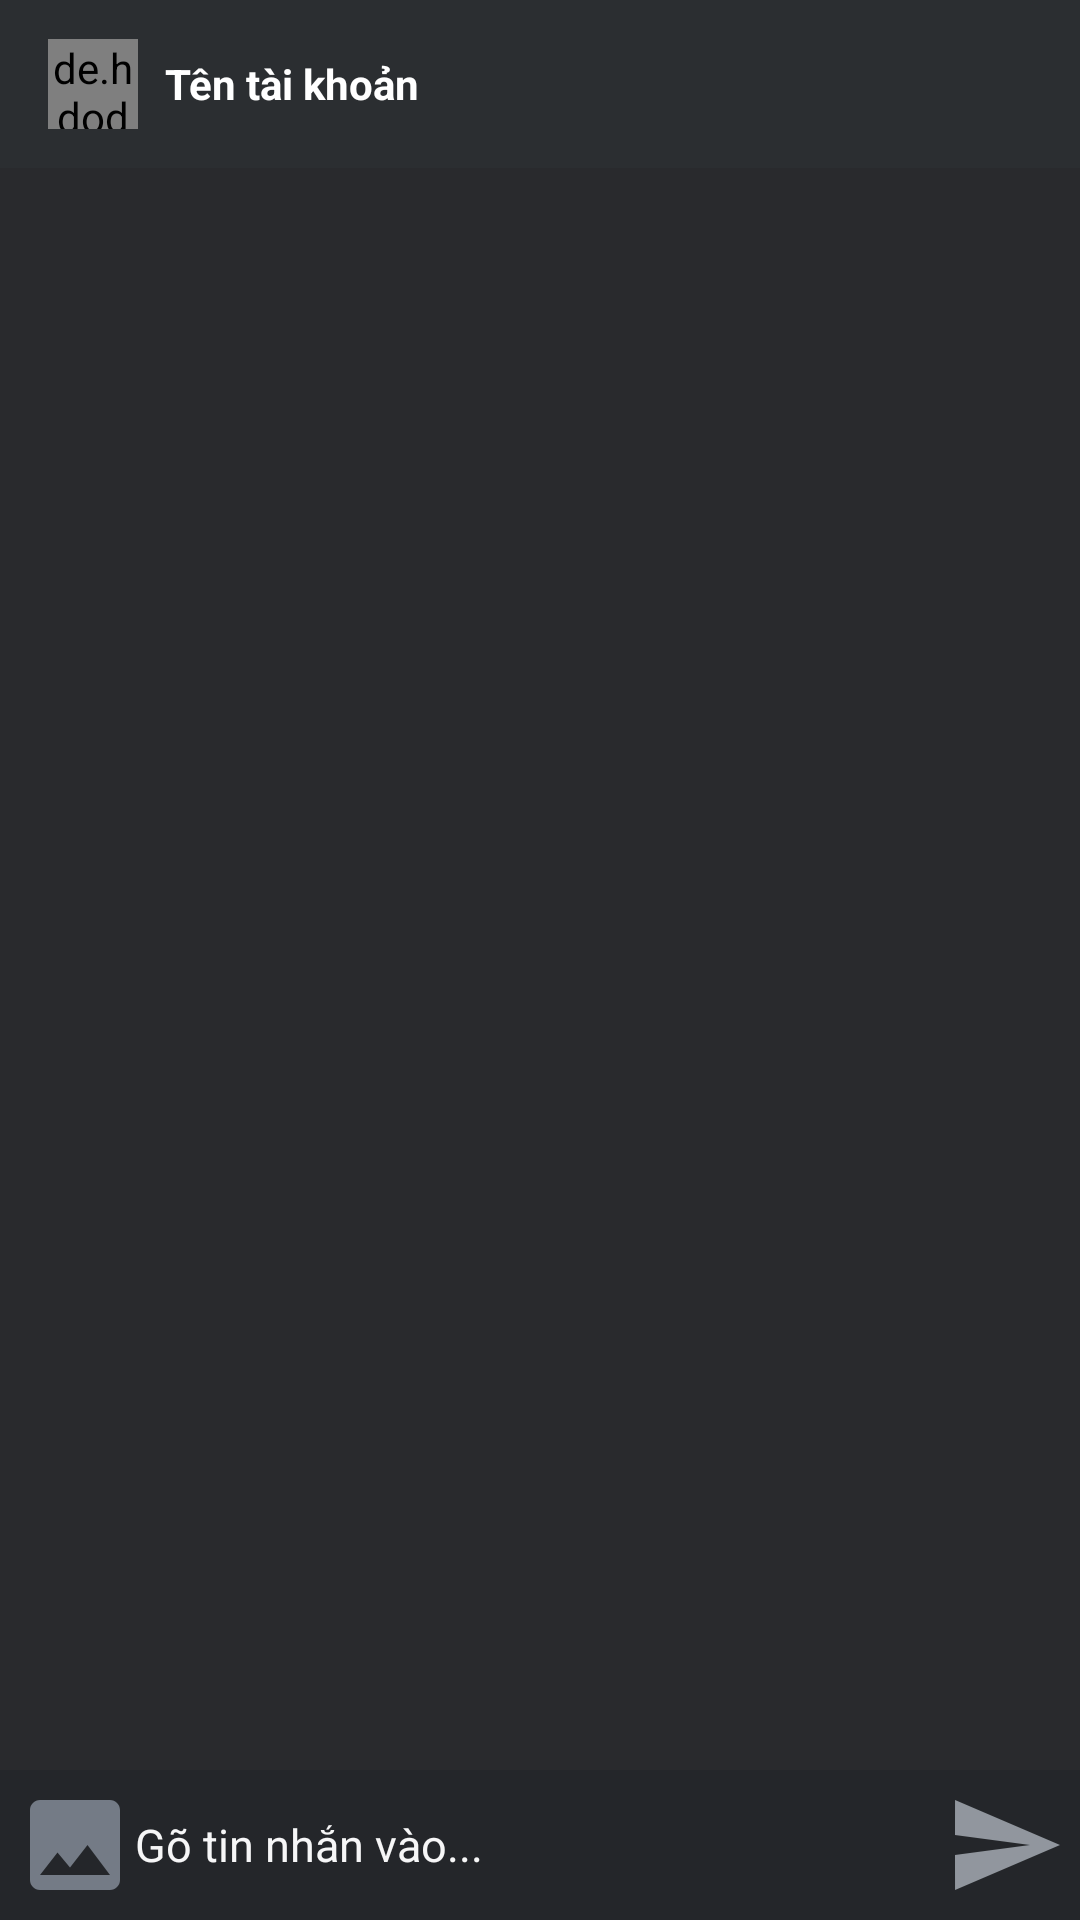

Icon bounding boxes for this 1080 x 1920 phone screenshot, format (x1, y1, x2, y2):
send: (955, 1800, 1059, 1890)
